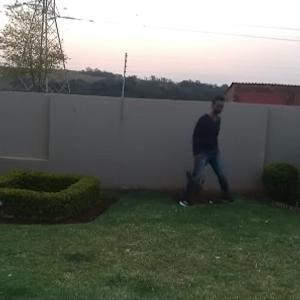follow: (187, 96, 220, 205)
